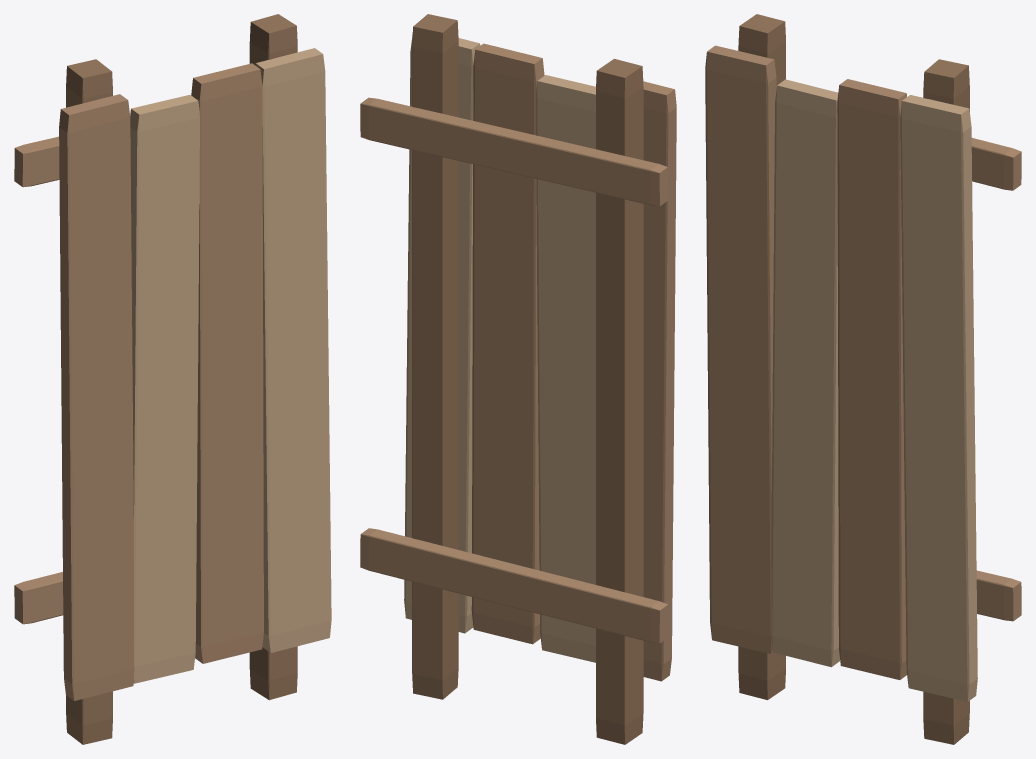
File: banner_board.glb
3 views of the same model, side by side, from view 1: azimuth 30°, elevation 25°; view 2: azimuth 150°, elevation 25°; view 3: azimuth 330°, elevation 25° (orthographic).
Parts seen in each view (by area): view 1: banner_board; view 2: banner_board; view 3: banner_board.
Boxes of the visible parts, x1,y1,x2,y2 form: banner_board: (14, 14, 331, 744); banner_board: (360, 14, 676, 744); banner_board: (705, 14, 1021, 744).
Size of the model in its own units: 1.95 by 4.15 by 0.4.
